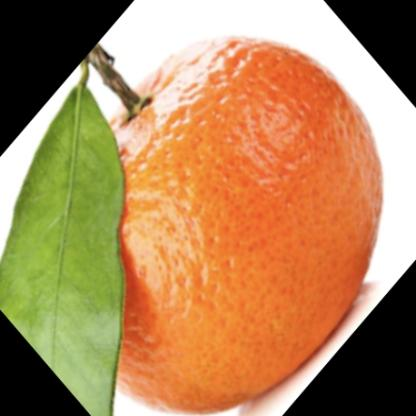fresh: (61, 37, 386, 414)
